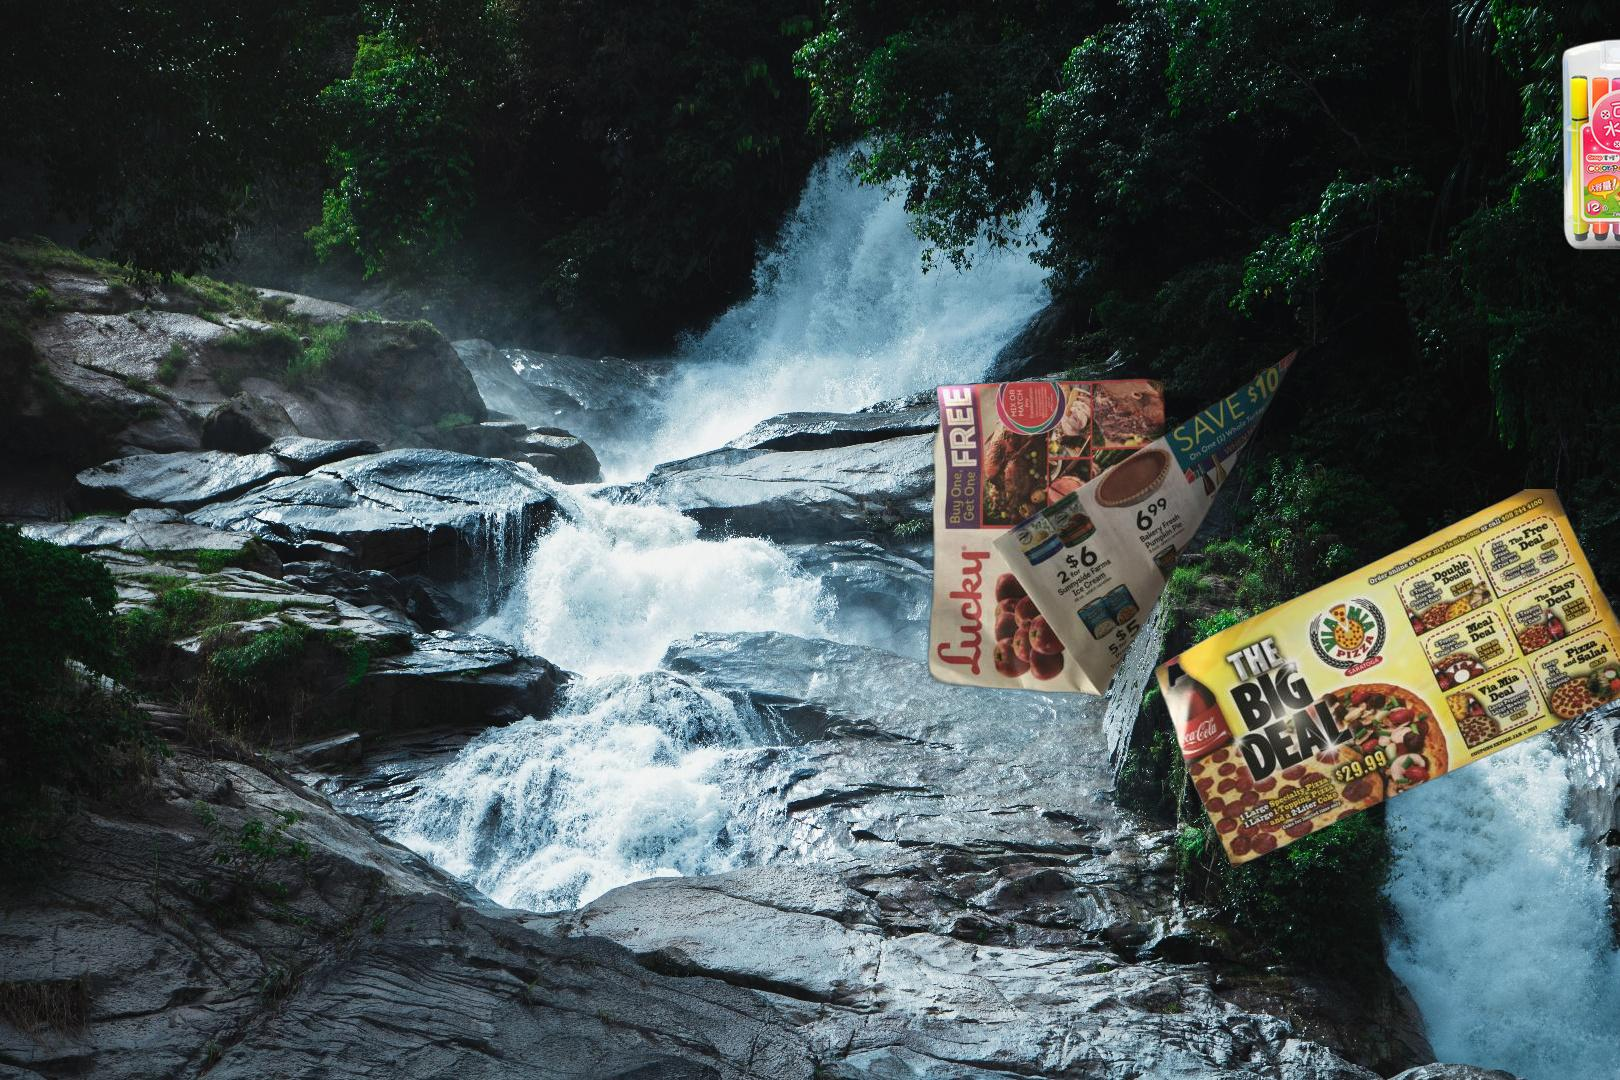paper: (1151, 489, 1620, 871), (923, 319, 1309, 699)
penholder: (1559, 36, 1620, 278)
